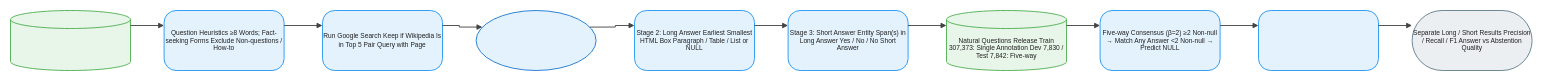
Some shapes in this 1543 by 82 pixel diagram are drawn without their labels. The shapes that lost their labels are listed below. From the top down, each one's centre as x and y in pixels, then its label:
(x=70, y=40): Real Google Queries Anonymized + Aggregated Issued by Multiple Users
(x=535, y=40): Stage 1: Question Check Good Fact Question or Bad Judge before Seeing Page
(x=1318, y=40): QA System Predict Long Answer Predict Short Answer or NULL
